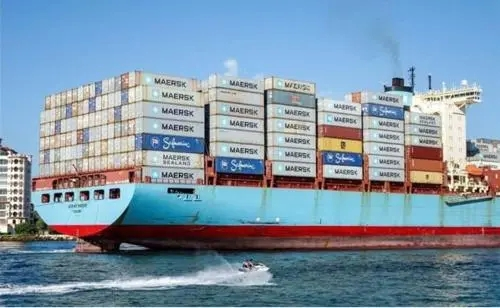Cargoship: (16, 63, 500, 248)
